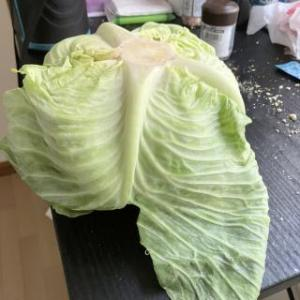cabbage: (0, 22, 270, 300)
